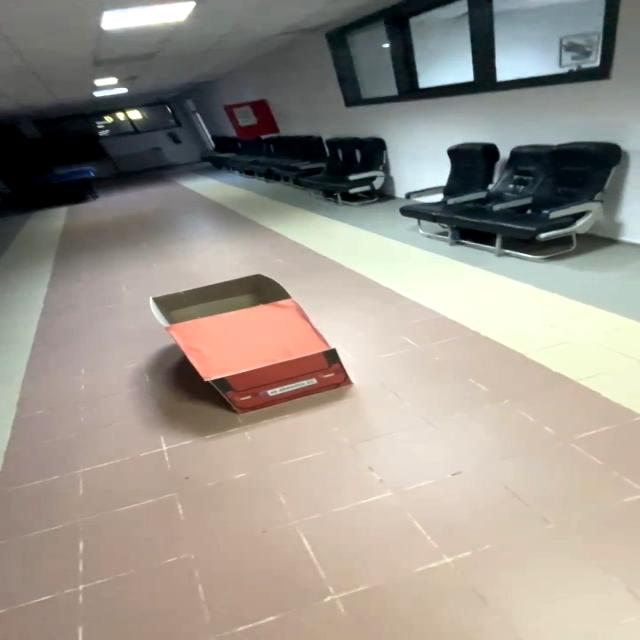red_car: (119, 260, 377, 451)
